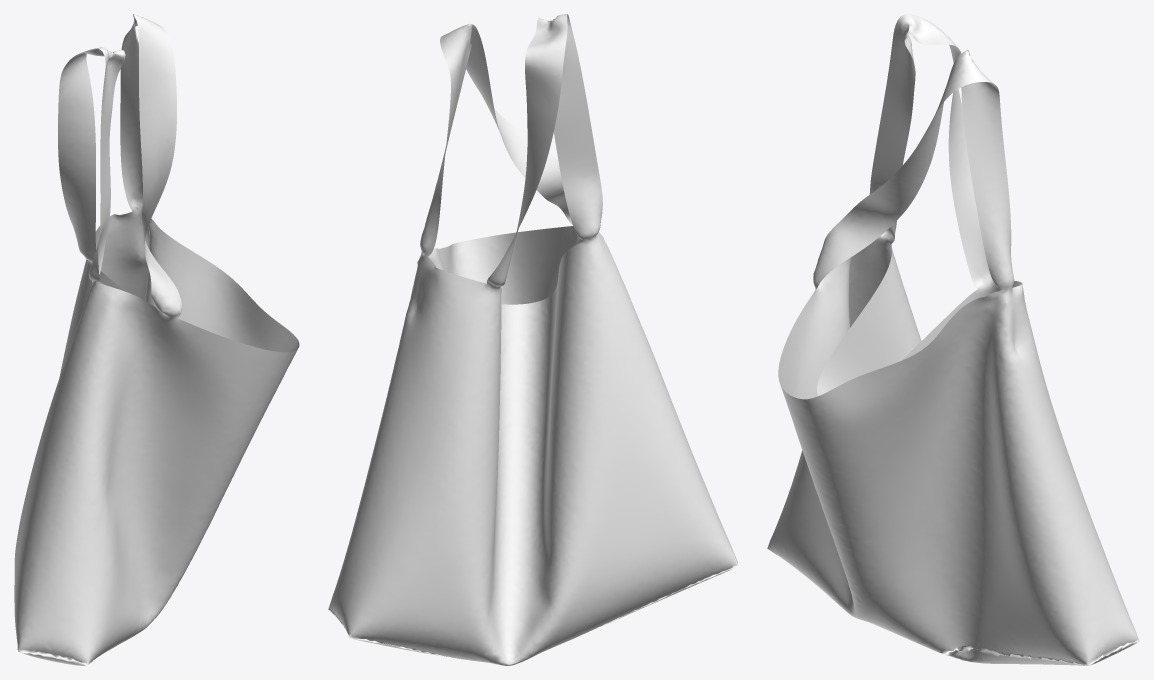
The model's file is femaleBagglb.glb.
3 views of the same model, side by side, from view 1: azimuth 30°, elevation 25°; view 2: azimuth 150°, elevation 25°; view 3: azimuth 270°, elevation 25° (orthographic). The views are drawn at different scales.
Parts seen in each view (by area): view 1: femaleBag; view 2: femaleBag; view 3: femaleBag.
Boxes of the visible parts, left/top/right/bottom form: femaleBag: left=14, top=14, right=299, bottom=665; femaleBag: left=328, top=14, right=738, bottom=665; femaleBag: left=767, top=14, right=1139, bottom=665.
Bounding box in the file's own units: 3.16 × 6.58 × 3.52.
Materials: 1 (1 with a texture image).
